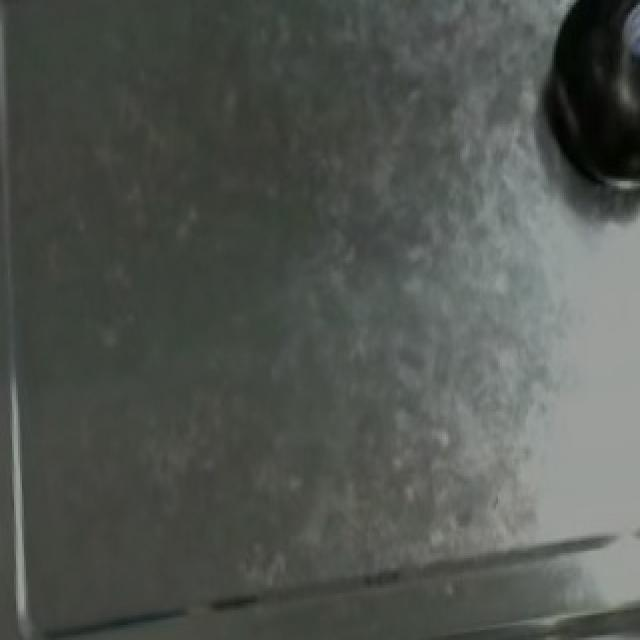Fruit: (528, 0, 640, 201)
